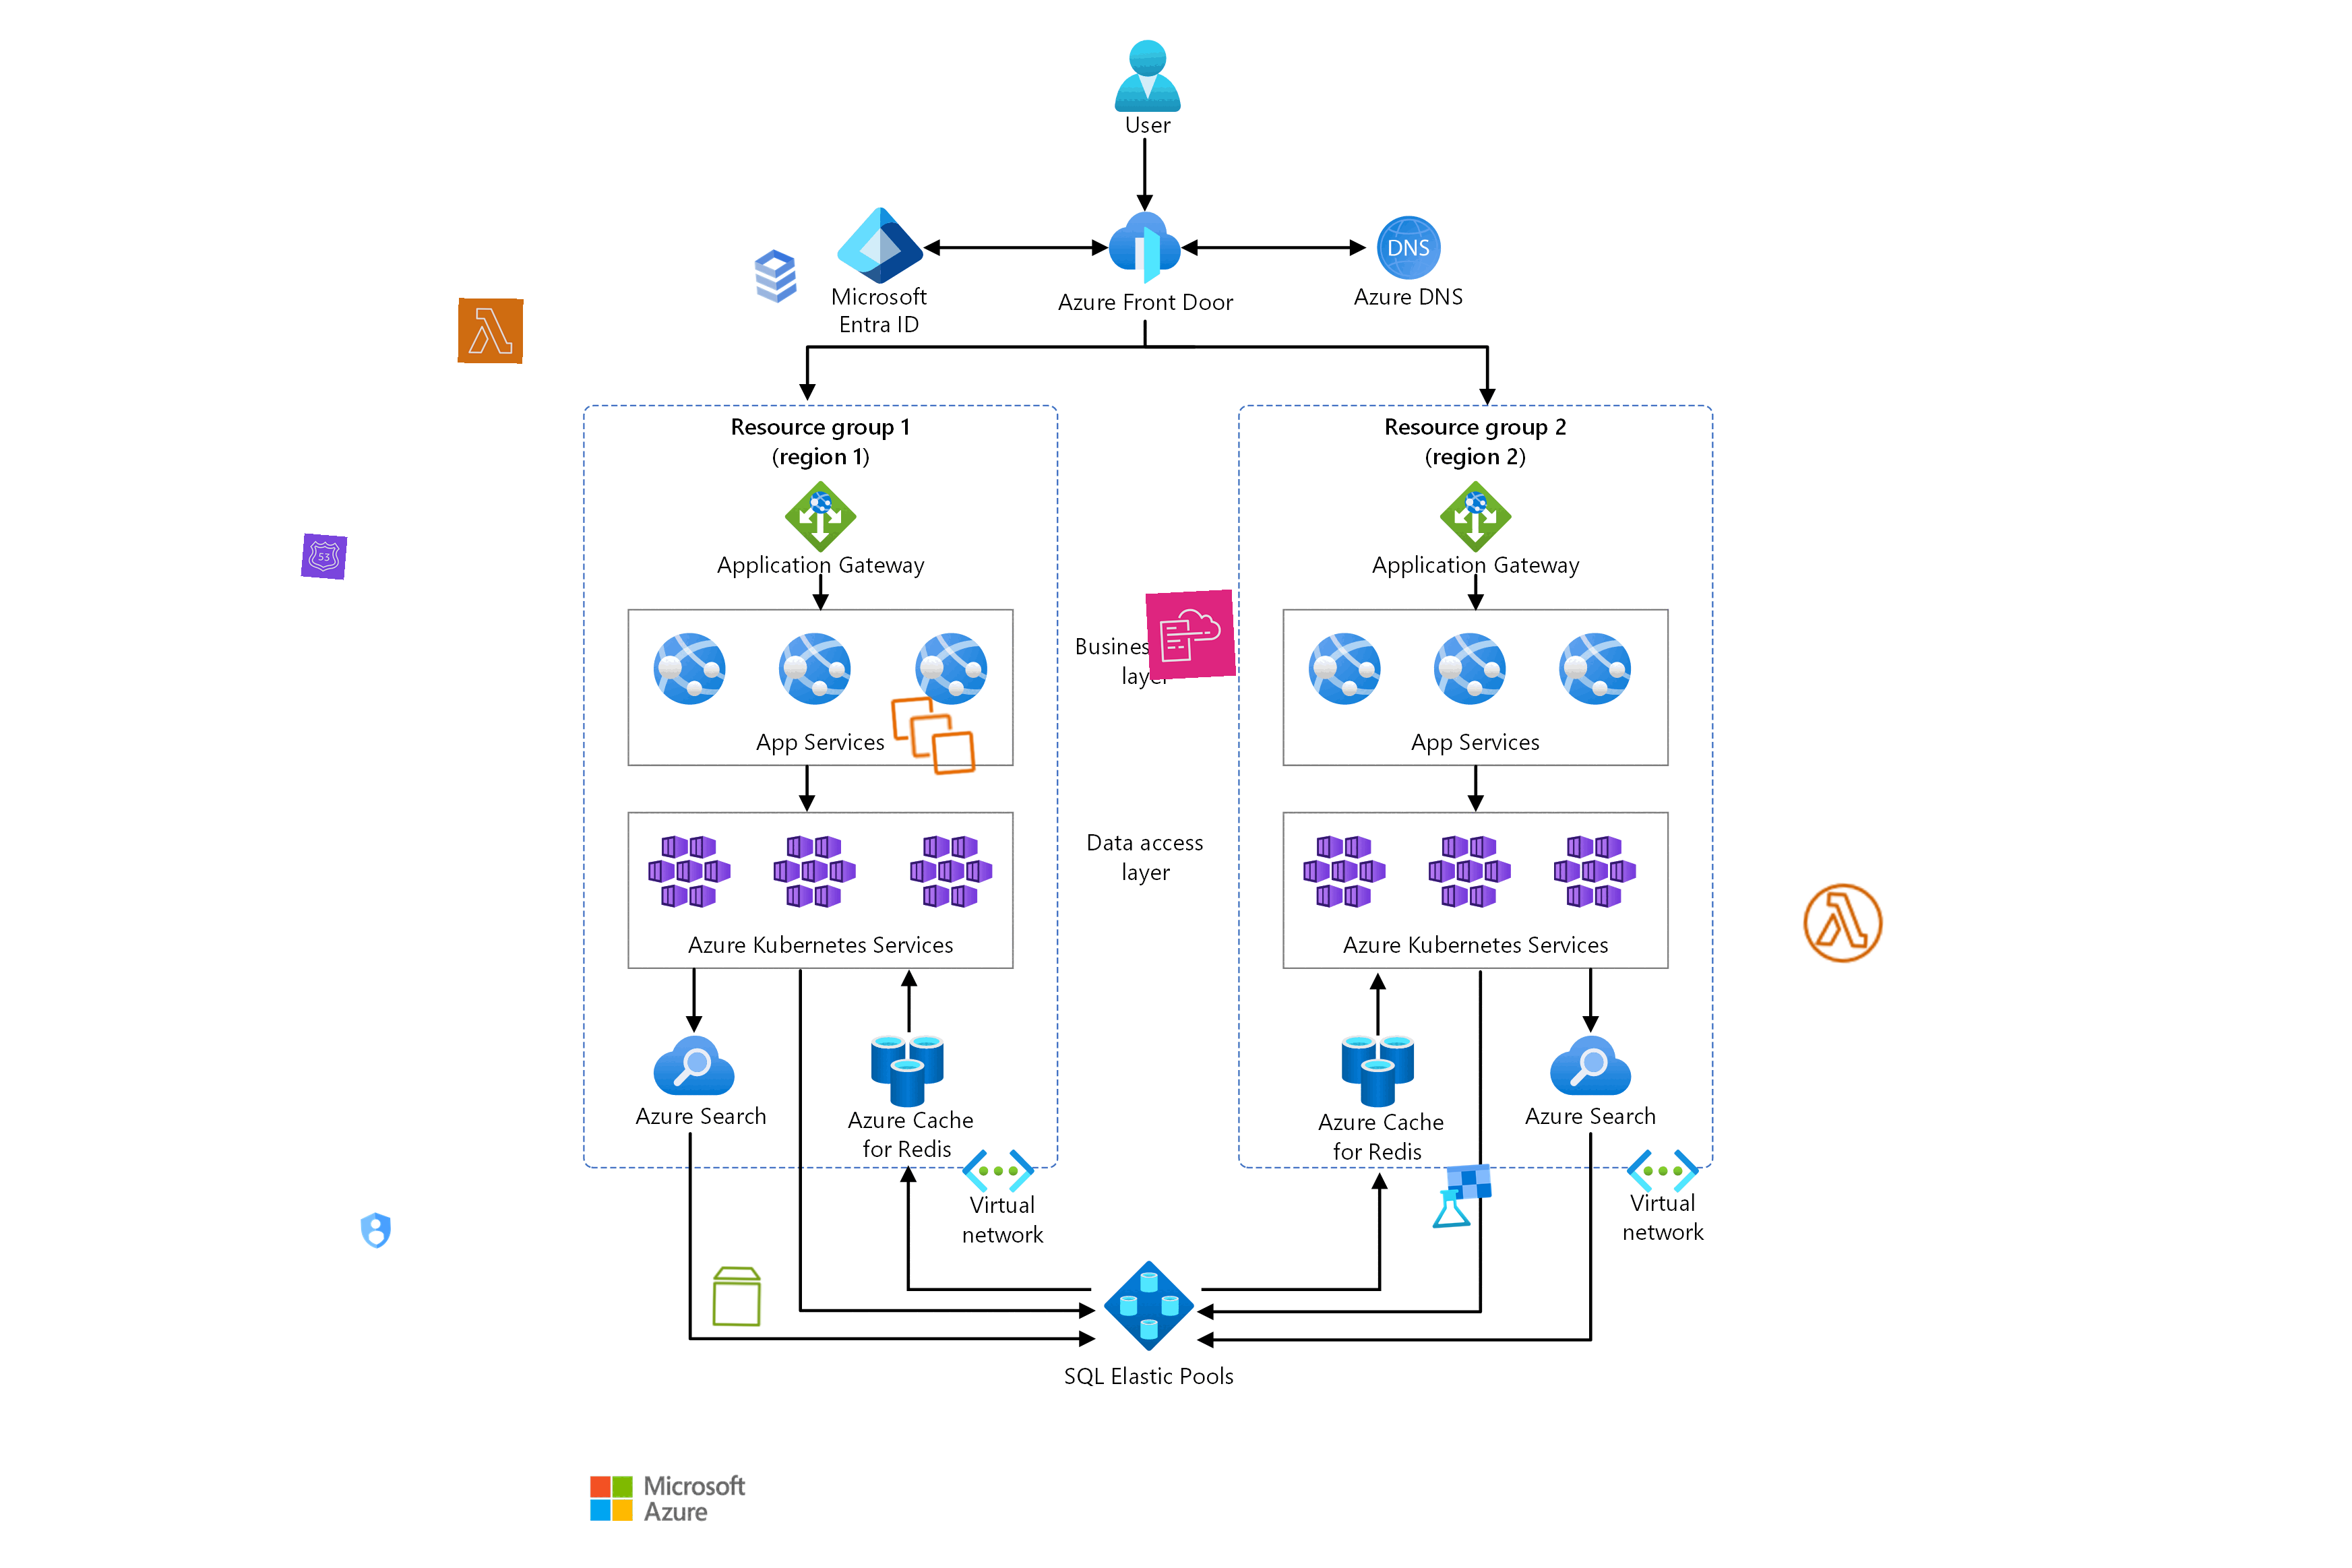aws_amazon_route_53: (301, 534, 348, 581)
aws_cloudformation: (1144, 590, 1237, 681)
aws_ec2_instances: (887, 689, 980, 782)
aws_elastic_block_store_volume: (703, 1263, 770, 1330)
aws_lambda: (457, 297, 523, 364)
aws_lambda_lambda_function: (1797, 877, 1888, 970)
azure_machine_learning_studio_workspaces: (1426, 1160, 1496, 1230)
gcp_cloud_sql: (740, 242, 810, 311)
gcp_identity_and_access_management: (353, 1207, 399, 1253)
